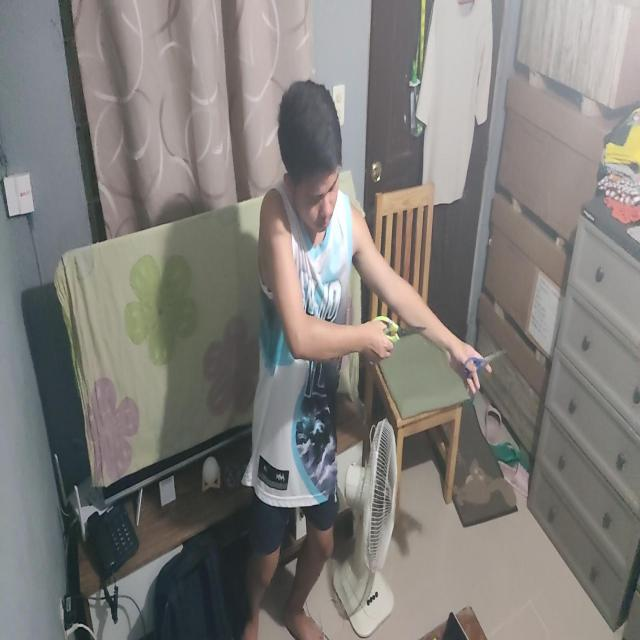scissor: (368, 316, 426, 346), (461, 348, 508, 382)
